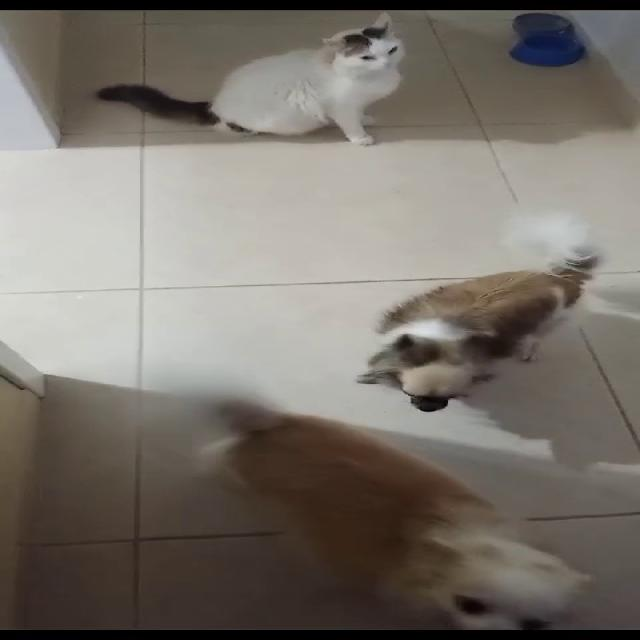Pedrita: (342, 248, 639, 421)
Theo: (134, 332, 639, 639), (342, 248, 639, 421)
